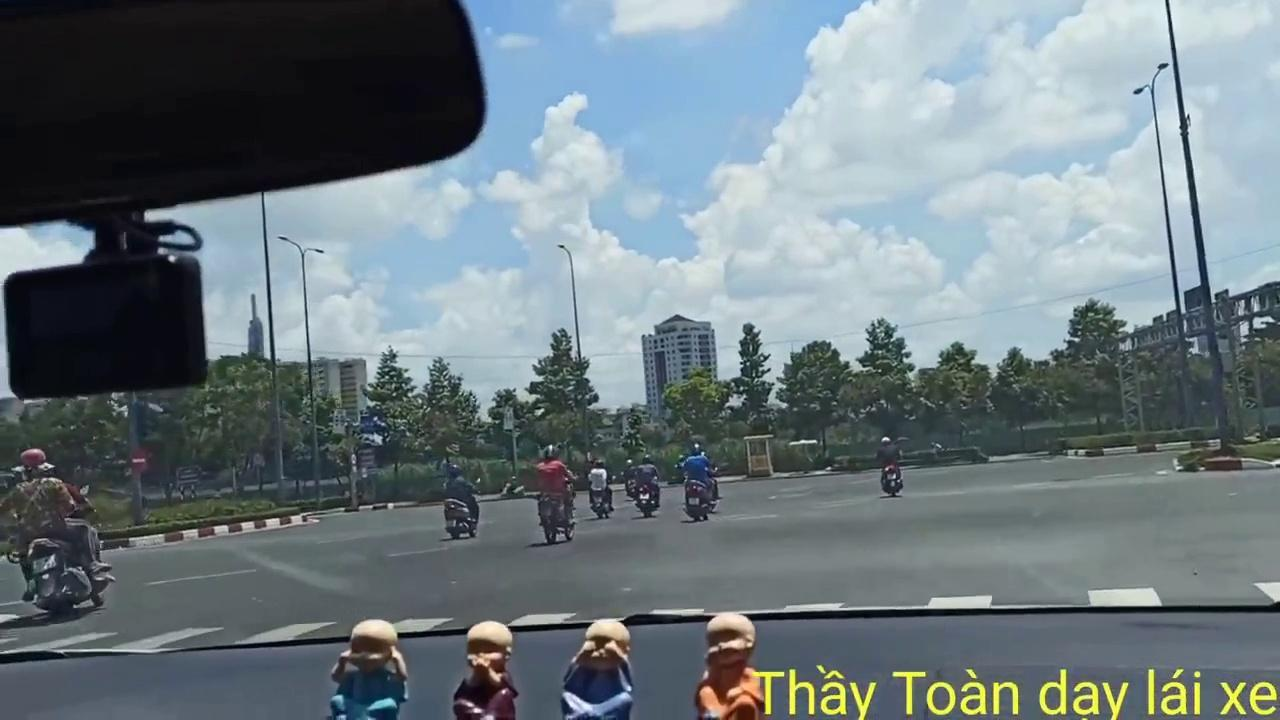Cấm cac phương tiện hoạt động trong khung giờ cố định: (333, 408, 345, 435)
Cấm đi ngược chiều: (128, 446, 154, 473)
